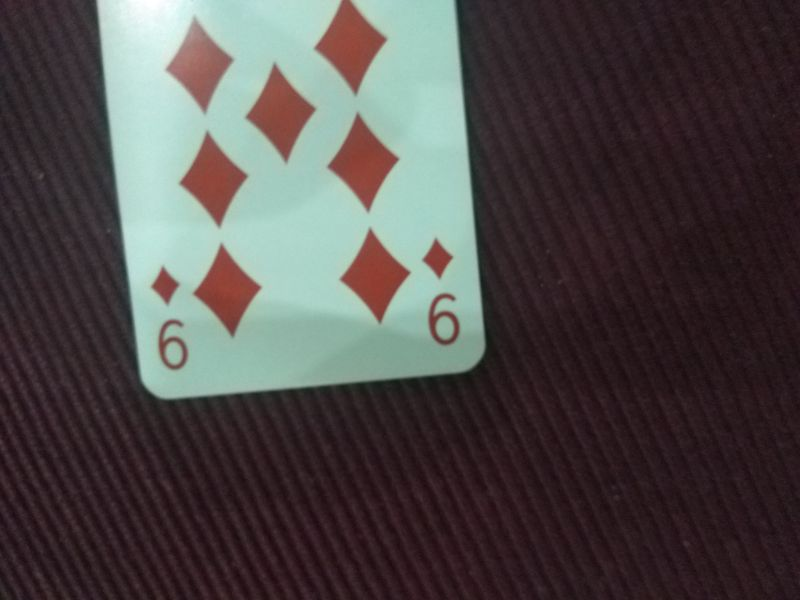9d: (417, 235, 464, 352), (149, 261, 192, 374)
